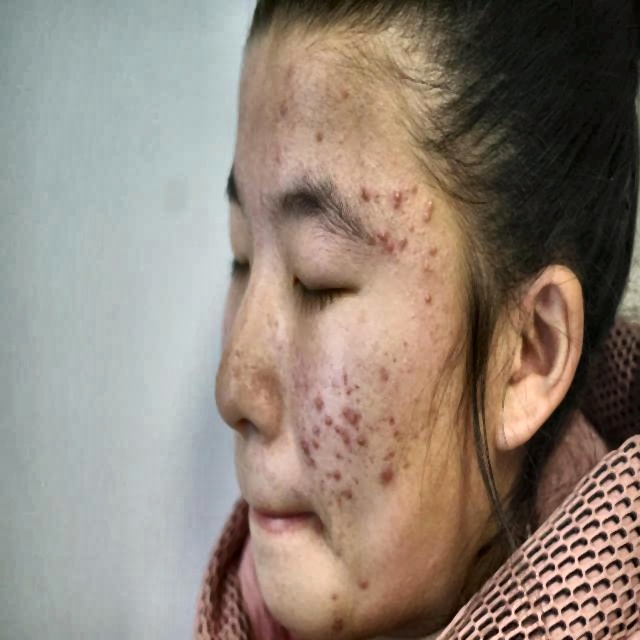pustule: (384, 178, 407, 210), (312, 395, 334, 428), (394, 229, 415, 260), (380, 457, 398, 490), (419, 202, 439, 230), (357, 560, 372, 594), (374, 224, 393, 250), (298, 436, 315, 464), (344, 396, 362, 422), (329, 455, 343, 485), (341, 425, 354, 452), (345, 480, 356, 503)
